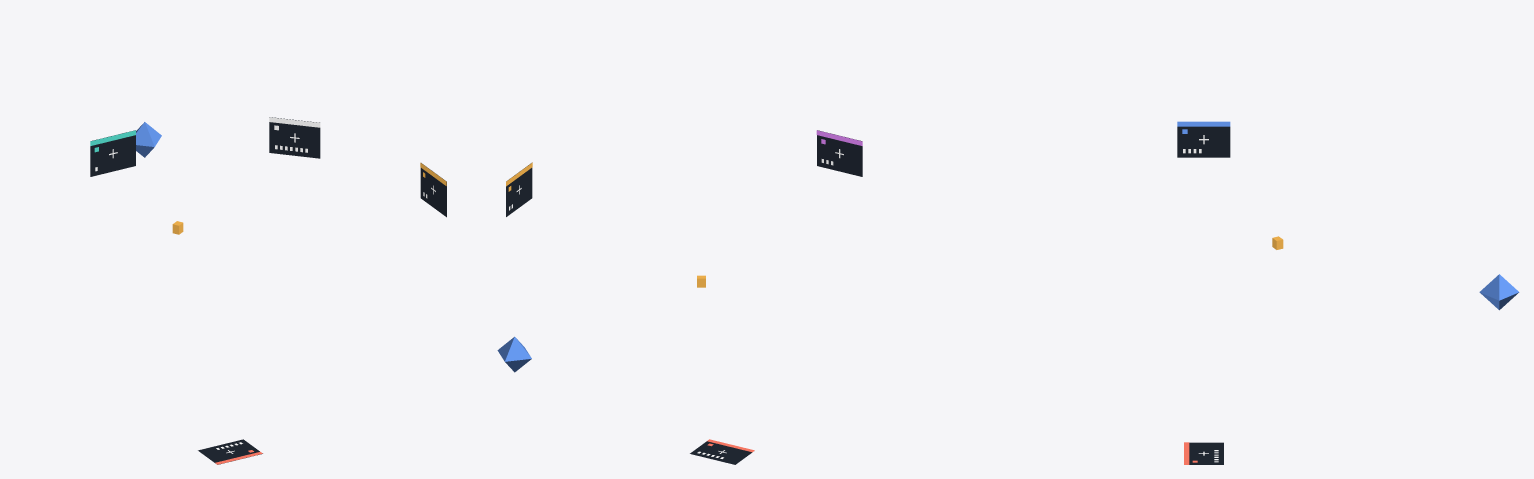
The model's file is reference-scene.glb.
3 views of the same model, side by side, from view 1: azimuth 30°, elevation 25°; view 2: azimuth 150°, elevation 25°; view 3: azimuth 270°, elevation 25° (orthographic).
Parts seen in each view (by area): view 1: cubemap_edge_positive_x_negative_z_board, axis_negative_z_front_board, axis_positive_x_right_board, axis_negative_y_down_board, far_octahedron; view 2: axis_positive_z_back_seam_board, axis_positive_x_right_board, axis_negative_y_down_board, far_octahedron; view 3: axis_negative_x_left_board, axis_negative_y_down_board, far_octahedron.
Boxes of the visible parts, x1,y1,x2,y2 form: cubemap_edge_positive_x_negative_z_board: (269, 117, 320, 158); axis_negative_z_front_board: (90, 130, 135, 176); axis_positive_x_right_board: (420, 163, 446, 217); axis_negative_y_down_board: (198, 439, 262, 464); far_octahedron: (136, 122, 161, 157); axis_positive_z_back_seam_board: (817, 130, 862, 176); axis_positive_x_right_board: (506, 163, 532, 216); axis_negative_y_down_board: (690, 441, 752, 464); far_octahedron: (497, 336, 531, 372); axis_negative_x_left_board: (1177, 126, 1230, 157); axis_negative_y_down_board: (1189, 442, 1223, 464); far_octahedron: (1479, 274, 1519, 310).
Size of the model in its own units: 16 by 16 by 18.68.
